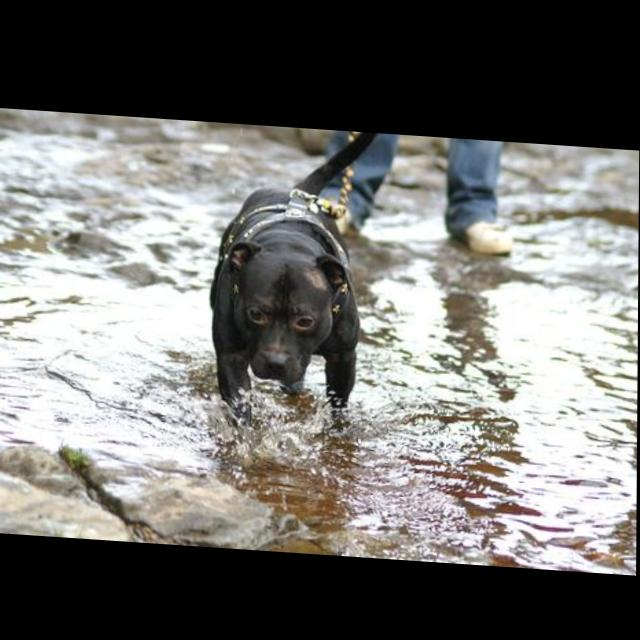staffford: (209, 119, 390, 430)
